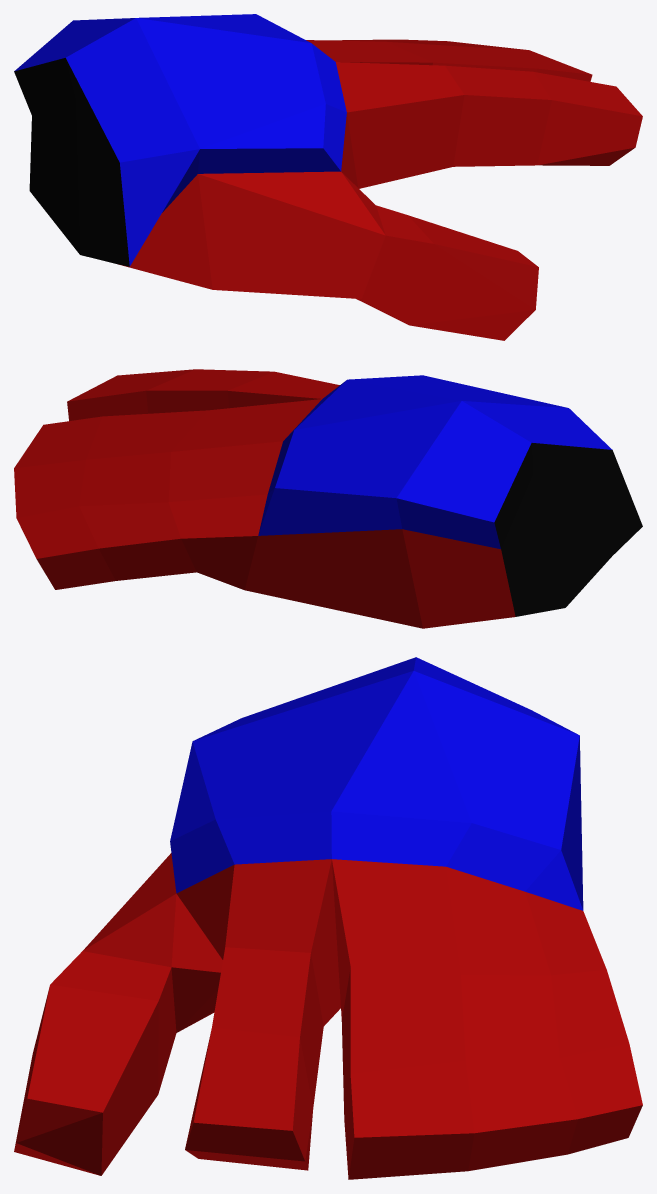
The model's file is Chr_HandLeft_Male_Static_06.fbx.
3 renders of one model, top to bottom at view 1: azimuth 30°, elevation 25°; view 2: azimuth 150°, elevation 25°; view 3: azimuth 270°, elevation 25°, orthographic. The views are drawn at different scales.
Parts seen in each view (by area): view 1: Chr_HandLeft_Male_06; view 2: Chr_HandLeft_Male_06; view 3: Chr_HandLeft_Male_06.
Part boxes in pixels (bbox=[...]): Chr_HandLeft_Male_06: bbox=[14, 14, 642, 340]; Chr_HandLeft_Male_06: bbox=[14, 369, 642, 628]; Chr_HandLeft_Male_06: bbox=[14, 657, 642, 1179].
Bounding box in the file's own units: 23.71 × 12.02 × 18.8.
